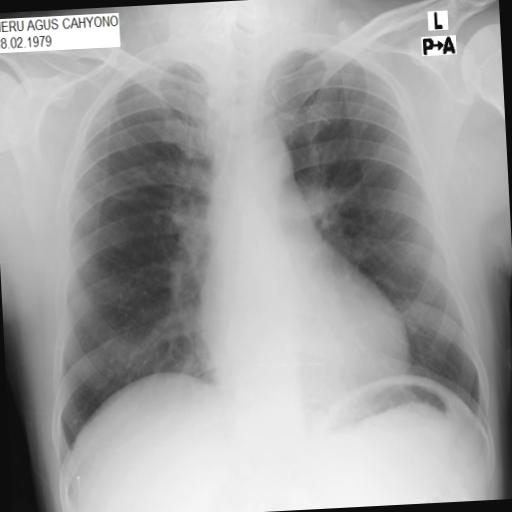kardiomegali: (188, 220, 418, 426)
